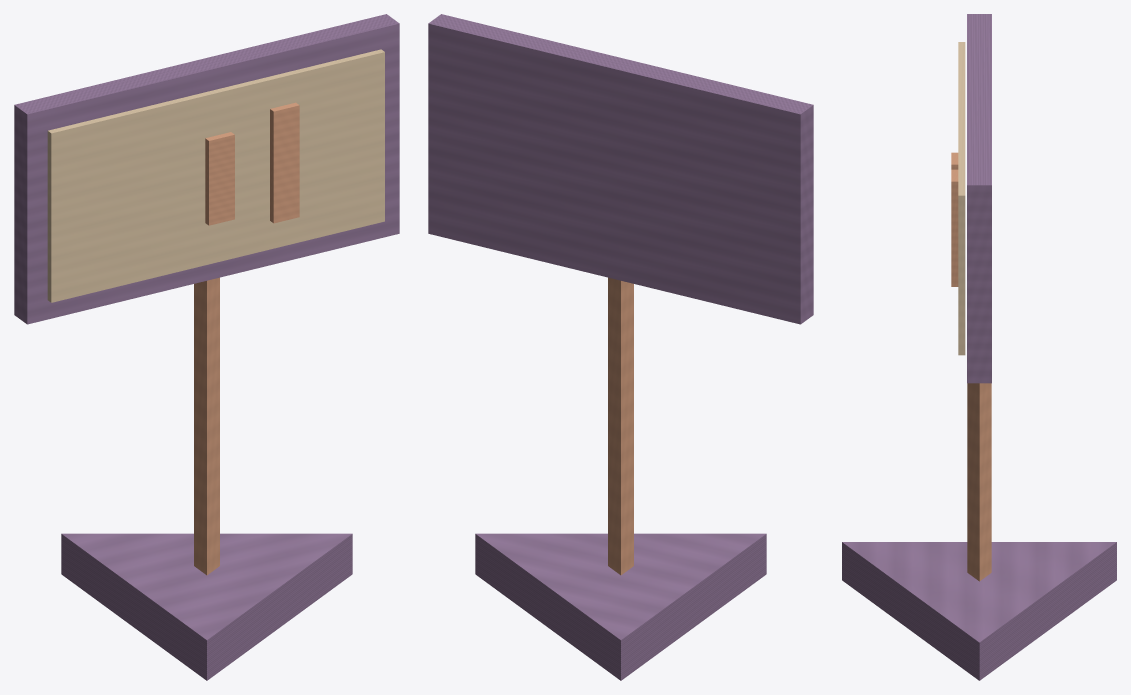
File: atlas100-s081-a11.lod1.glb
3 renders of one model, left to right at view 1: azimuth 30°, elevation 25°; view 2: azimuth 150°, elevation 25°; view 3: azimuth 270°, elevation 25°, orthographic. The views are drawn at different scales.
Parts seen in each view (by area): view 1: atlas100-s081-a11:part-003, atlas100-s081-a11:part-002, atlas100-s081-a11:part-000, atlas100-s081-a11:part-001, atlas100-s081-a11:part-006, atlas100-s081-a11:part-005; view 2: atlas100-s081-a11:part-002, atlas100-s081-a11:part-000, atlas100-s081-a11:part-001; view 3: atlas100-s081-a11:part-000, atlas100-s081-a11:part-002, atlas100-s081-a11:part-001, atlas100-s081-a11:part-003, atlas100-s081-a11:part-006.
Boxes of the visible parts, x1,y1,x2,y2 form: atlas100-s081-a11:part-003: [47, 49, 384, 302]; atlas100-s081-a11:part-002: [14, 14, 399, 324]; atlas100-s081-a11:part-000: [61, 533, 352, 680]; atlas100-s081-a11:part-001: [194, 277, 219, 575]; atlas100-s081-a11:part-006: [270, 102, 299, 223]; atlas100-s081-a11:part-005: [205, 132, 234, 225]; atlas100-s081-a11:part-002: [428, 14, 813, 324]; atlas100-s081-a11:part-000: [475, 533, 766, 680]; atlas100-s081-a11:part-001: [608, 277, 633, 575]; atlas100-s081-a11:part-000: [842, 542, 1116, 680]; atlas100-s081-a11:part-002: [967, 14, 991, 383]; atlas100-s081-a11:part-001: [967, 383, 991, 581]; atlas100-s081-a11:part-003: [958, 42, 965, 355]; atlas100-s081-a11:part-006: [951, 169, 958, 286].
Size of the model in its own units: 1.15 by 1.61 by 0.7794.
3 materials, 3 textured.
